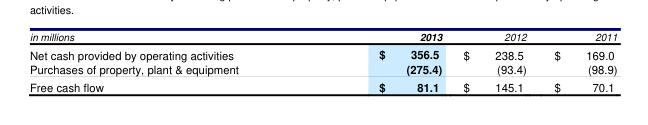table: (28, 28, 616, 94)
table column: (28, 28, 308, 94), (308, 28, 451, 94), (451, 28, 539, 94), (539, 28, 616, 94)
table column header: (28, 28, 616, 44)
table row: (28, 44, 616, 61), (28, 77, 616, 94), (28, 28, 616, 44), (28, 61, 616, 77)
